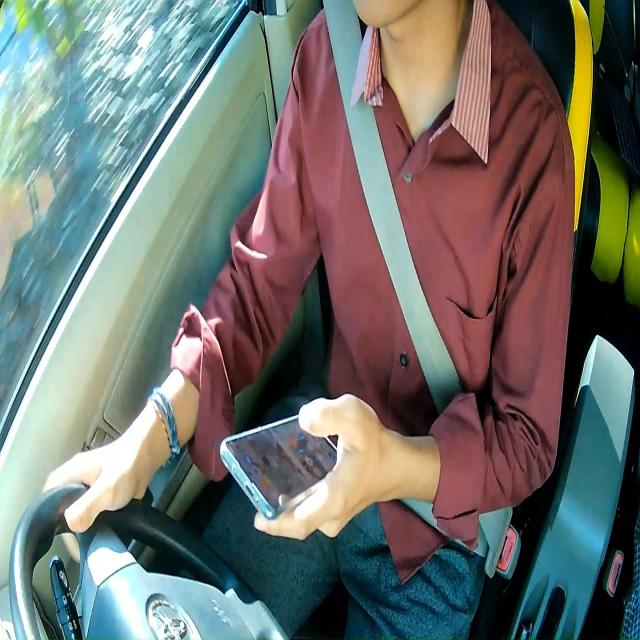phone: (218, 411, 342, 521)
